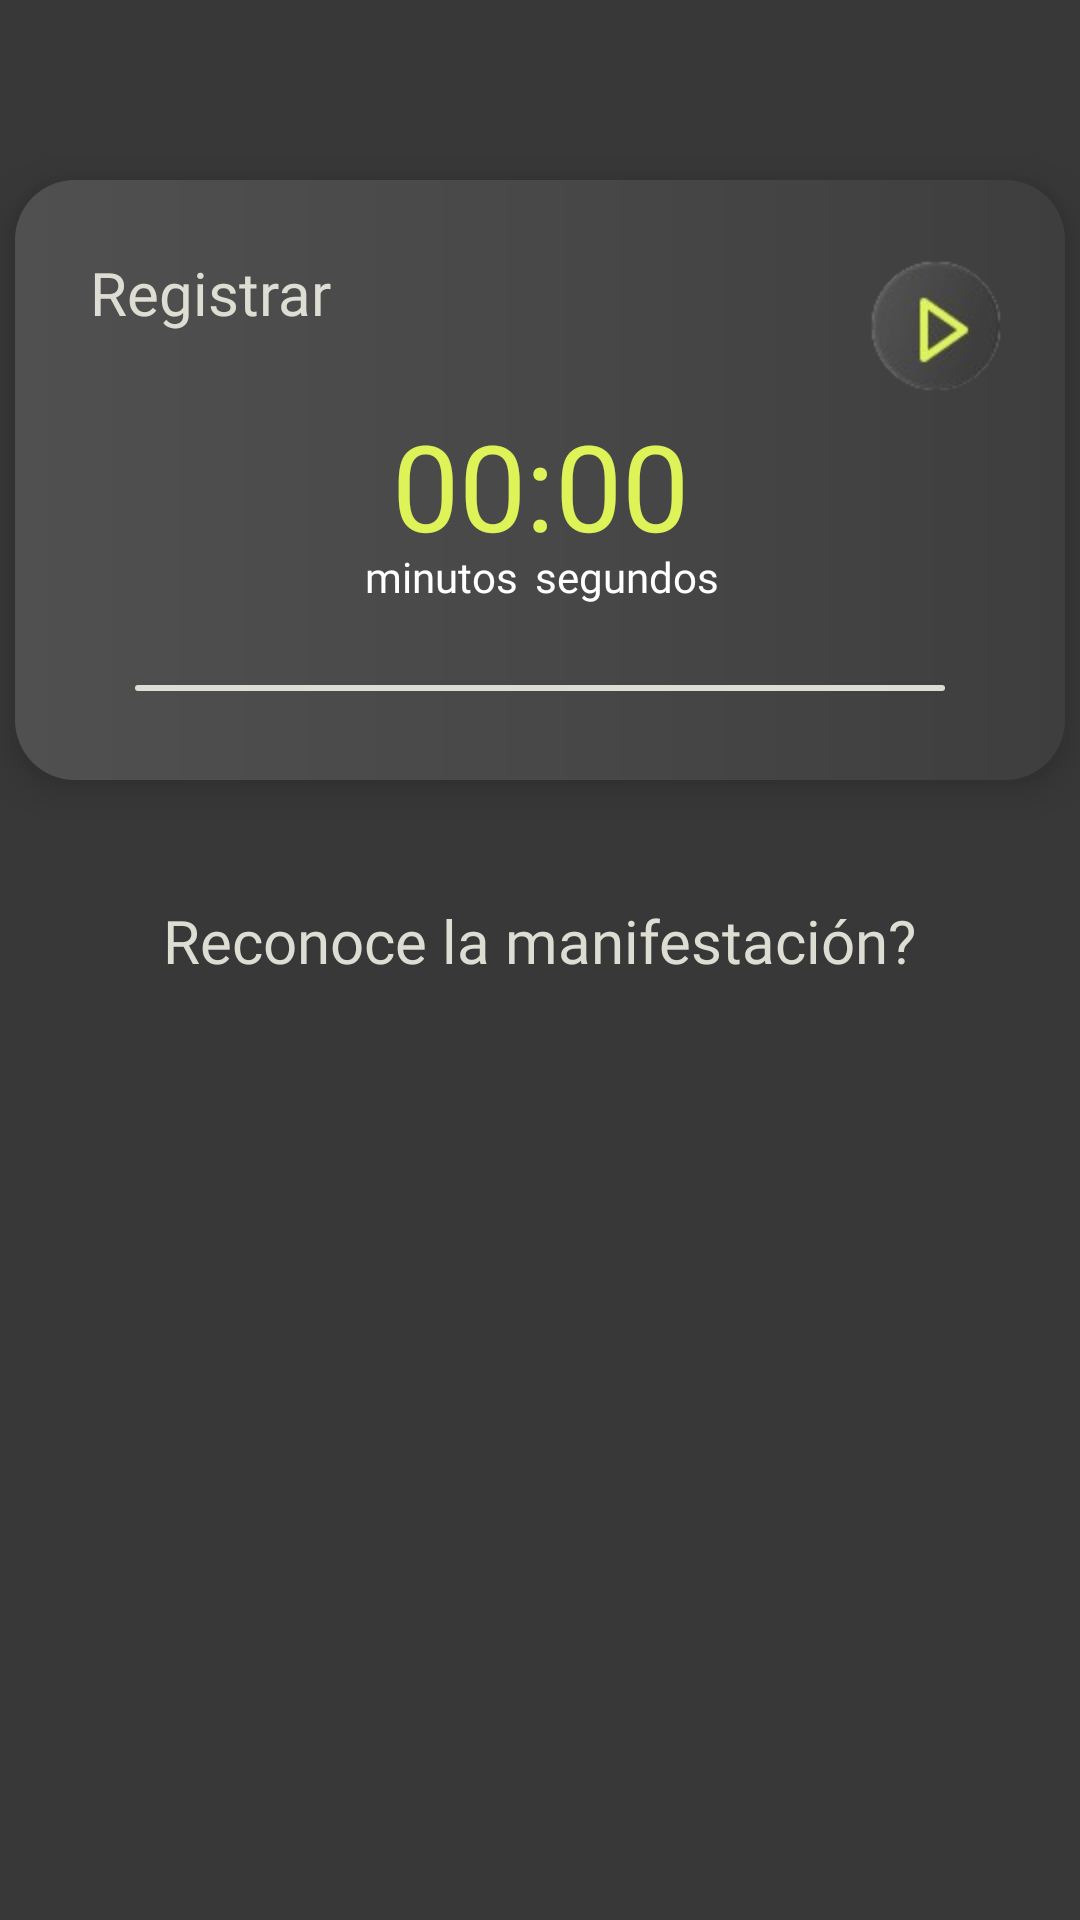

Icon bounding boxes for this 1080×1920 phone screenshot, format box=[x1, y1, x2, y2]:
right arrow: box=[872, 262, 1000, 387]
